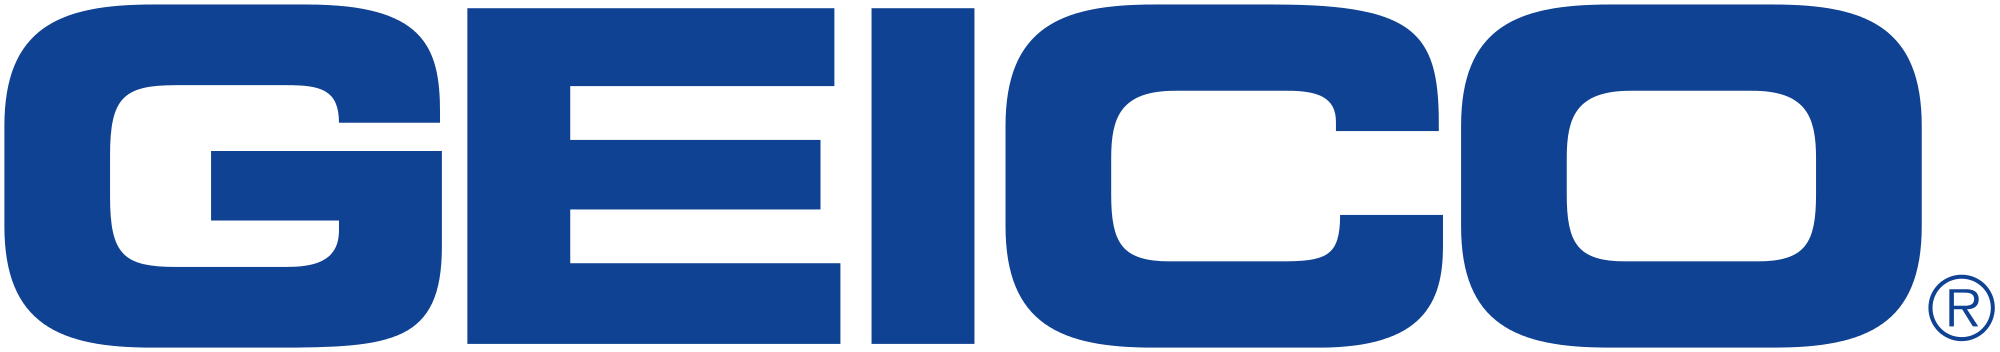Geico: (23, 11, 1917, 348)
